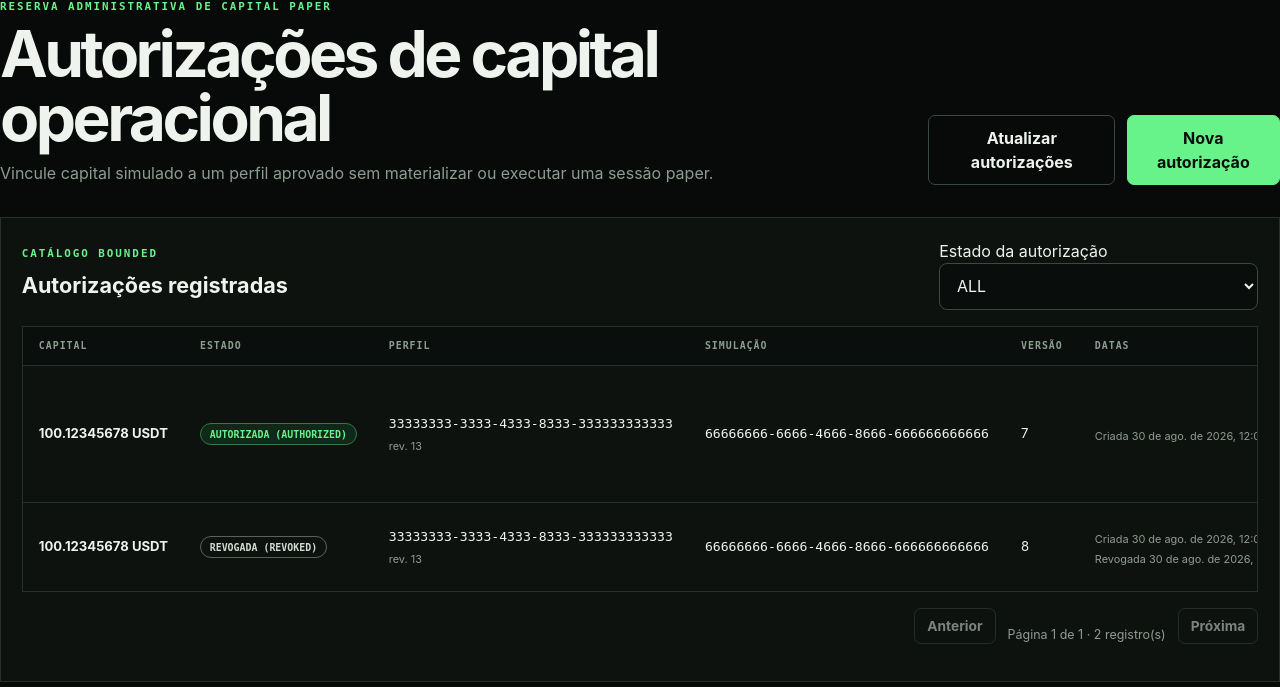
autorizações administrativas de capital paper › rejeita decimais inválidos sem normalização financeira
Click the button "Nova autorização". click: (1203, 150)
box: [1127,115,1279,185]
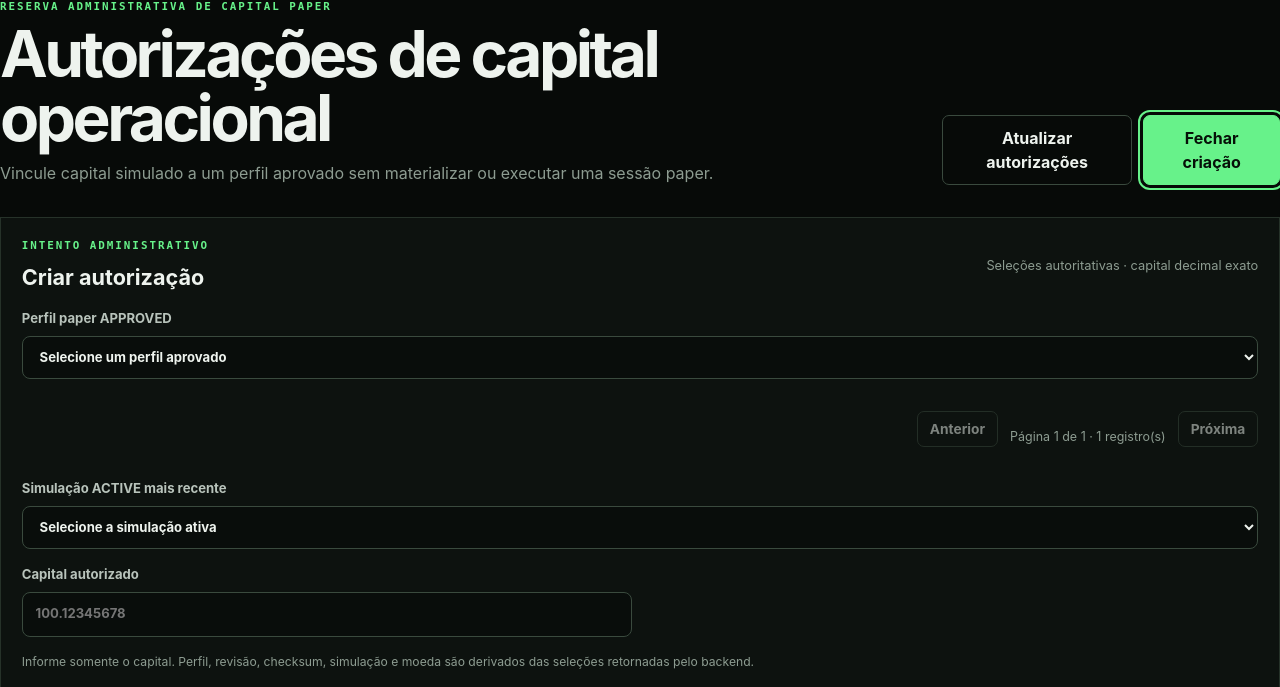
Select "Perfil BTC aprovado · BTC/USDT · rev. 13" in the dropdown labelled "Perfil paper APPROVED". click: (640, 357)
box: [22,336,1258,379]
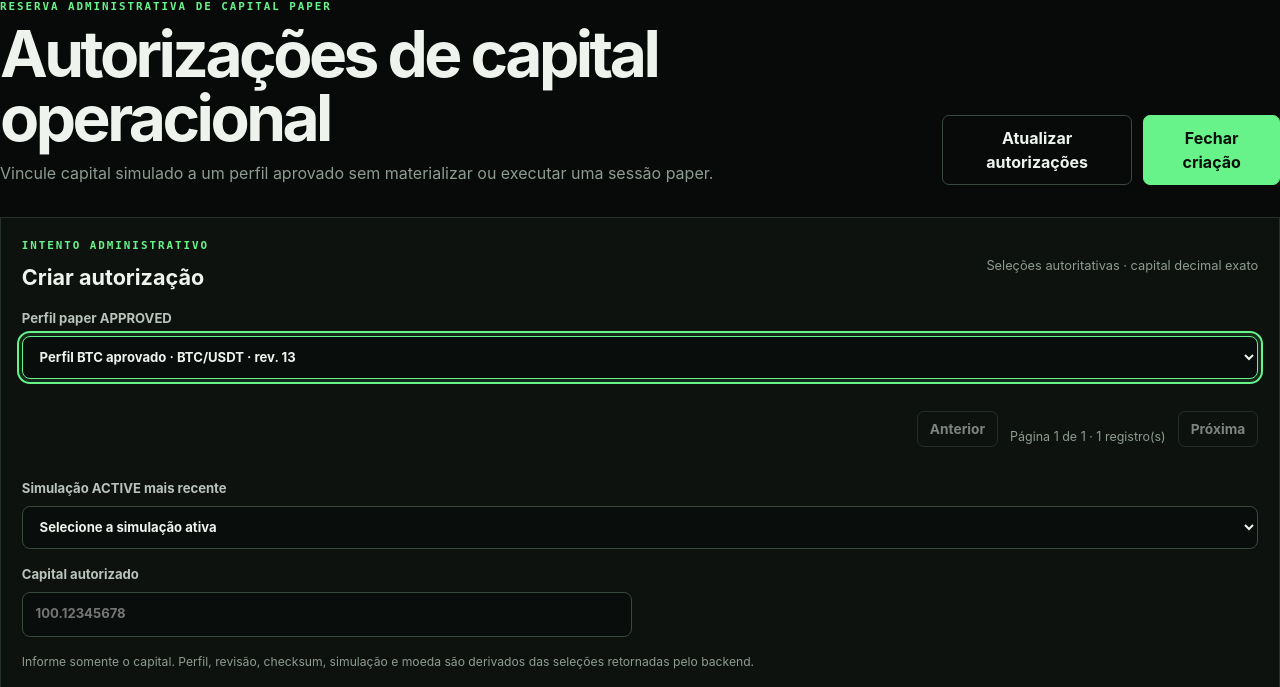
Select "Simulação principal · USDT · 29 de ago. de 2026, 10:00" in the dropdown labelled "Simulação ACTIVE mais recente". click: (640, 527)
box: [22,506,1258,549]
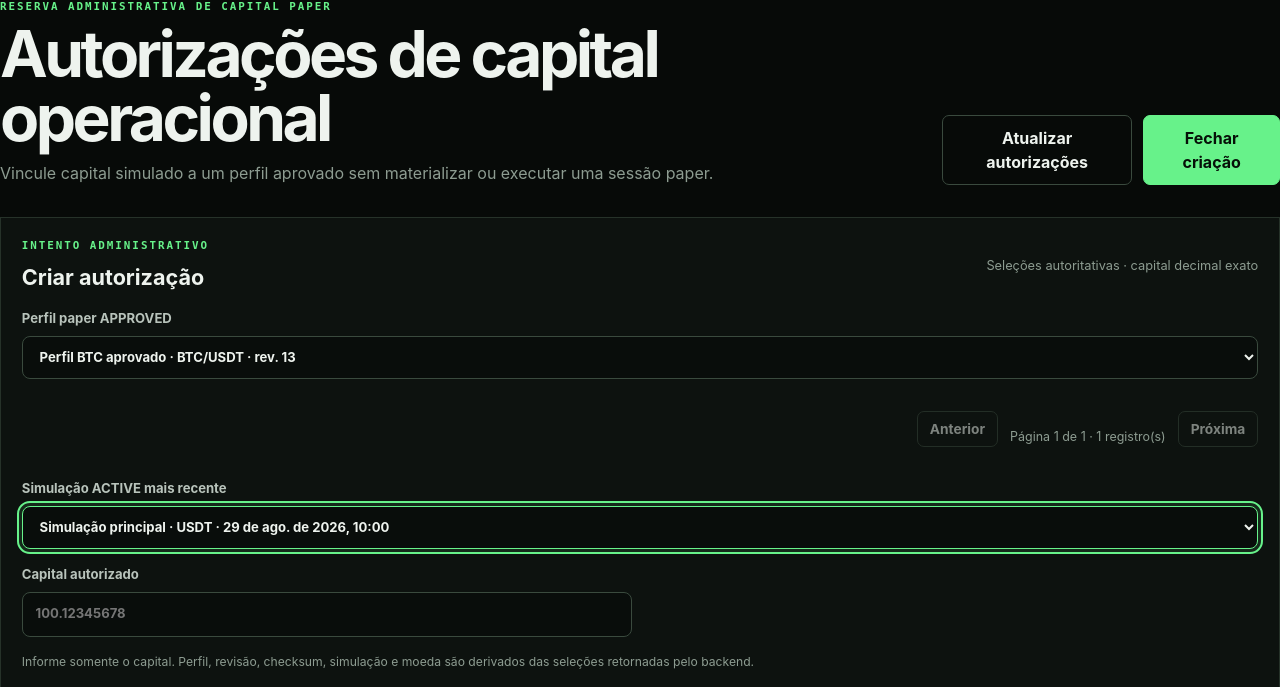
Type "100.123456789" into the field labelled "Capital autorizado". click: (327, 614)
box: [22,592,632,636]
(page scrolled)
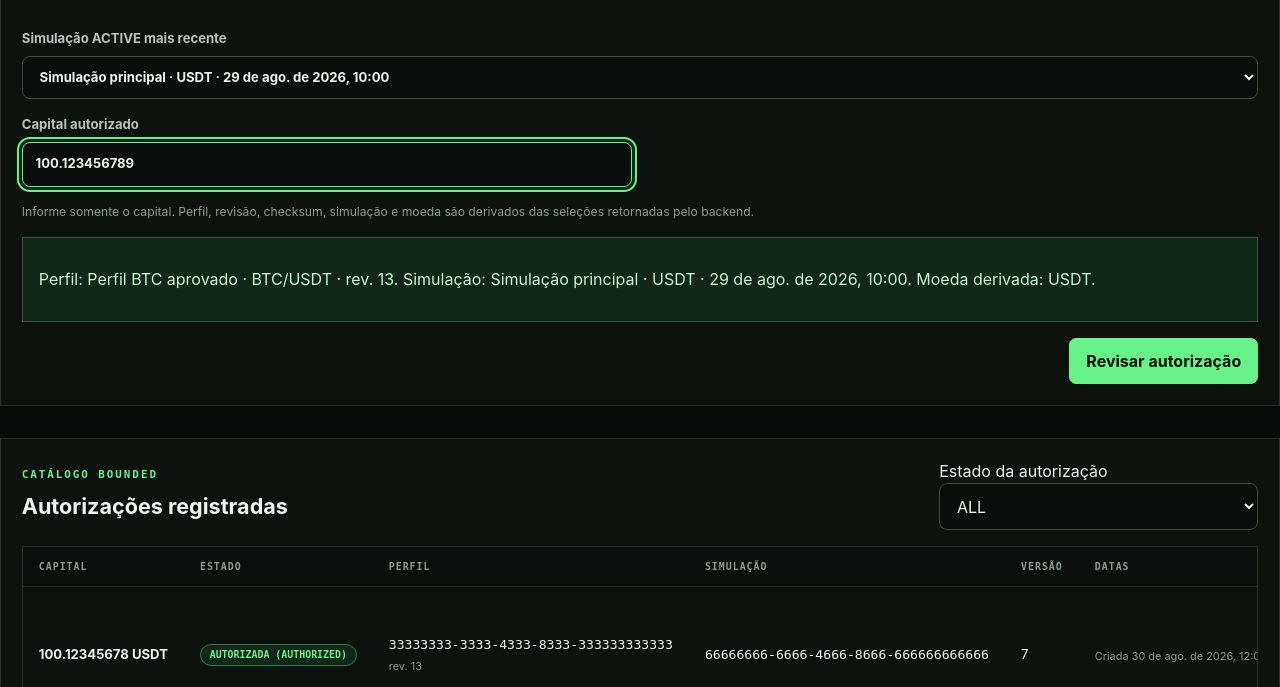
Click the button "Revisar autorização". click: (1164, 361)
box: [1069,338,1258,384]
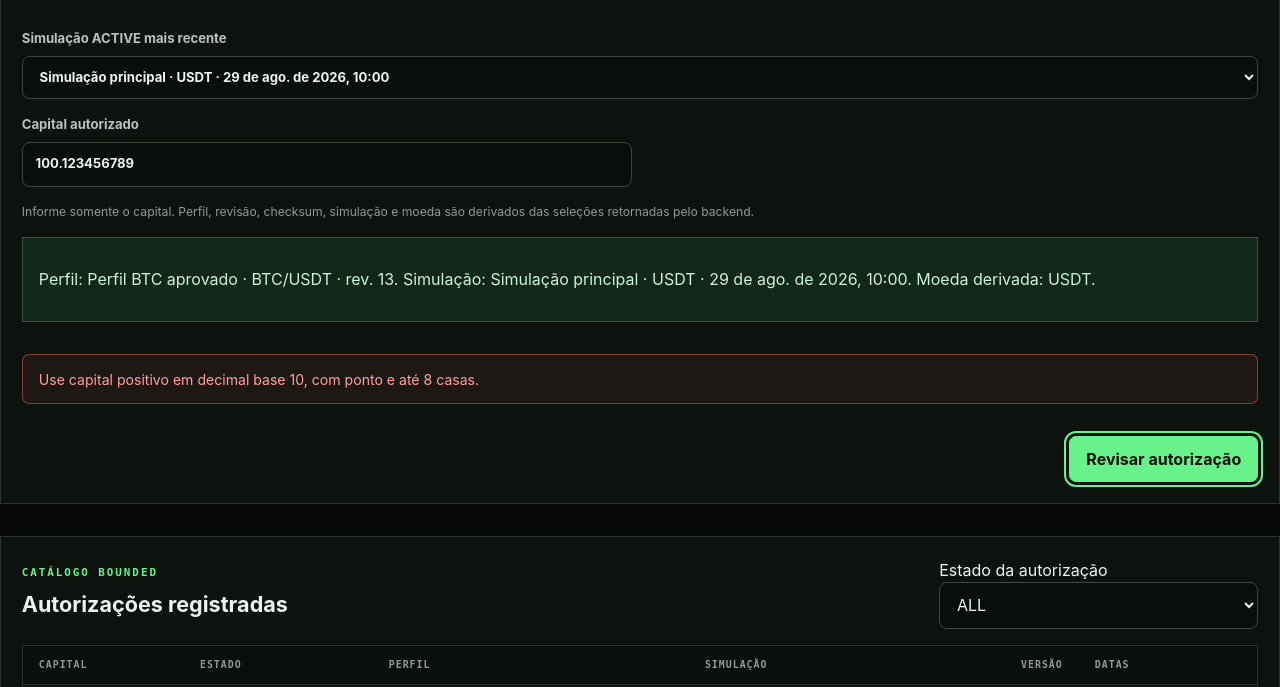
Check: the message "Use capital positivo em decimal base 10, com ponto e até 8 casas." is shown, box [22,354,1258,404]
